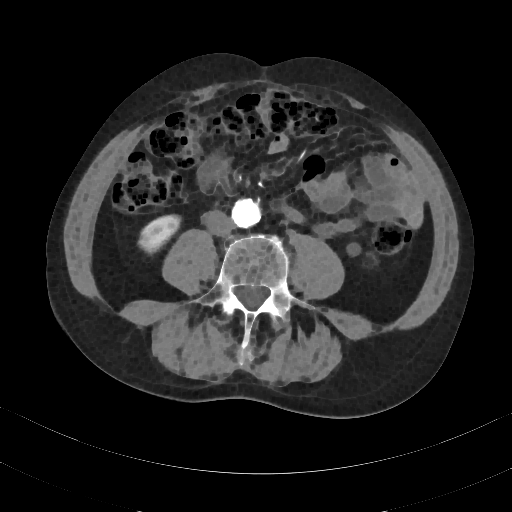Lesion: (340, 240, 363, 260)
